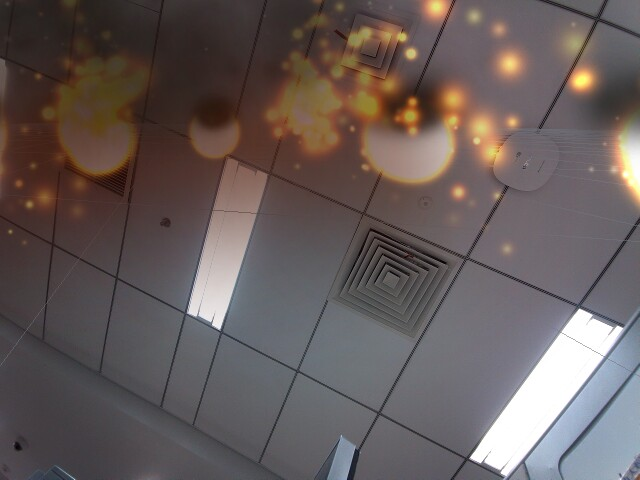fire: (358, 94, 458, 183), (52, 106, 140, 176), (613, 87, 640, 216), (187, 103, 241, 160)
